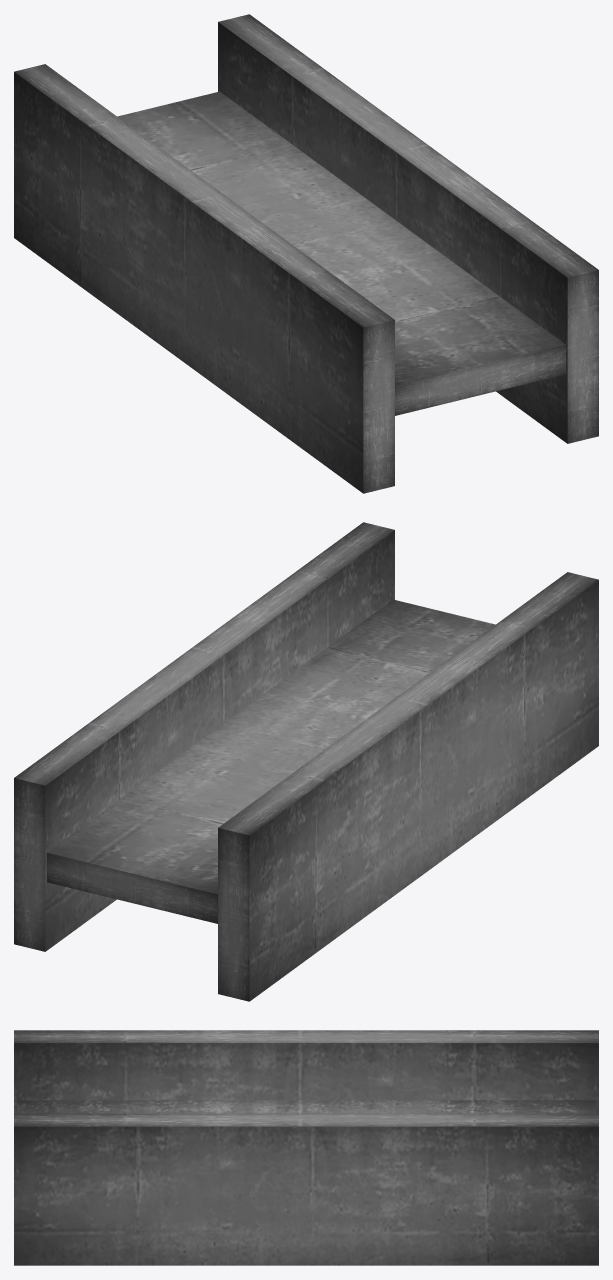
Rendered from static.glb.
3 views of the same model, one above another, from view 1: azimuth 30°, elevation 25°; view 2: azimuth 150°, elevation 25°; view 3: azimuth 270°, elevation 25° (orthographic). The views are drawn at different scales.
Visible parts, largest first — view 1: Cube_2, Cube; view 2: Cube_2, Cube; view 3: Cube_2, Cube.
Boxes of the visible parts, left/top/right/bottom form: Cube_2: left=14, top=14, right=598, bottom=493; Cube: left=117, top=91, right=565, bottom=415; Cube_2: left=14, top=522, right=598, bottom=1001; Cube: left=47, top=599, right=495, bottom=923; Cube_2: left=14, top=1030, right=598, bottom=1265; Cube: left=17, top=1100, right=595, bottom=1113.
Size of the model in its own units: 0.4068 by 0.2745 by 1.05.
1 material, 1 textured.
